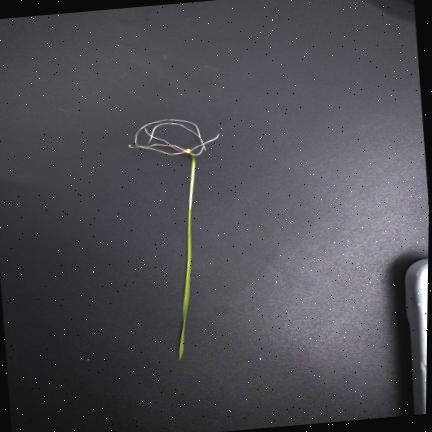leaf: (177, 207, 192, 359)
root1: (135, 118, 206, 154)
root2: (128, 143, 185, 150)
root3: (144, 127, 184, 151)
root4: (190, 132, 219, 151)
root5: (148, 122, 204, 155)
stem: (186, 147, 198, 207)
